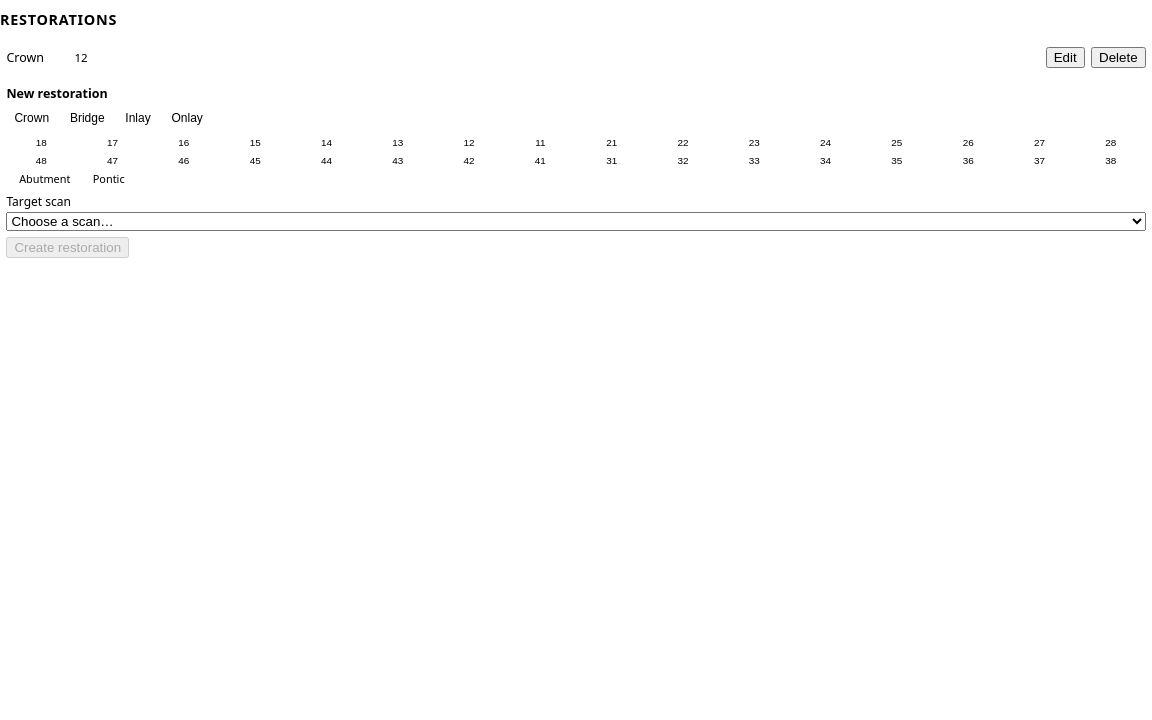
Test: RestorationWizard — delete confirm gate (Task-11-review Critical 2) › gates deletion of a restoration with a hand-traced margin line behind a confirm dialog; cancel keeps it, confirm deletes it and journals the margin/axis snapsho
The width and height of the screenshot is (1152, 720).
expect the text "12" is shown: met, box [74,50,88,65]
Click the button with test id "restoration-delete-button" at coordinates (1118, 58), box [1091,47,1146,68]
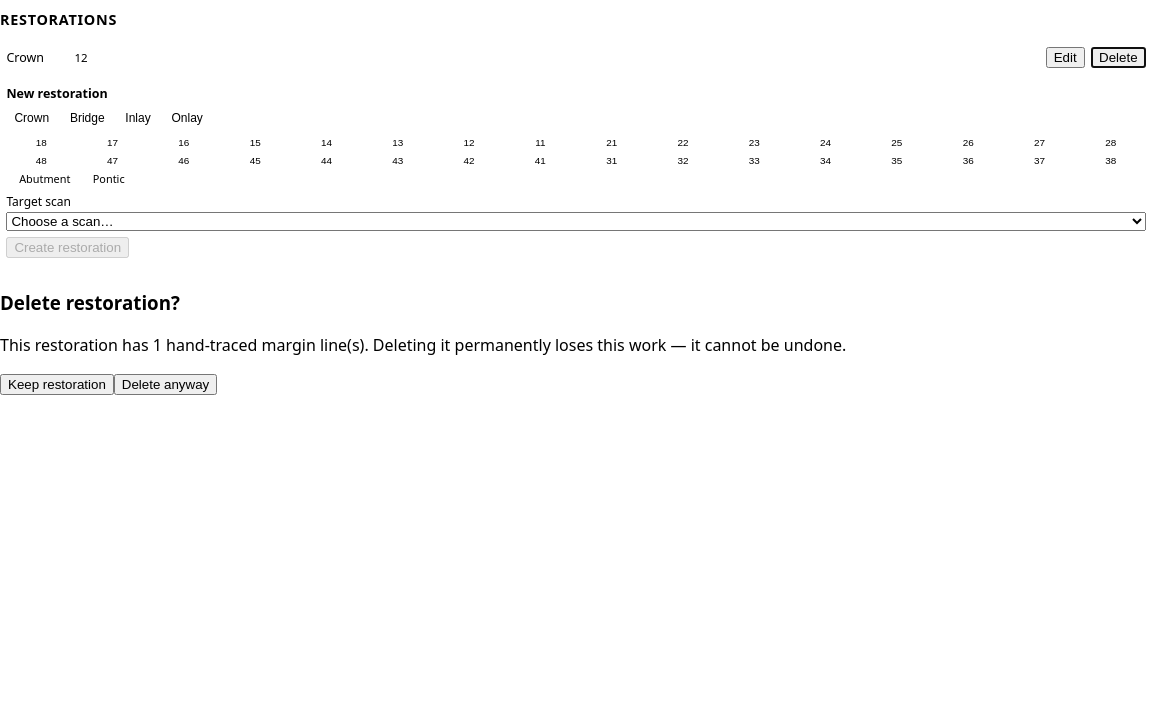
Note: Cancel: restoration survives.
Click the button with test id "restoration-delete-confirm-cancel" at coordinates (57, 384), box [0,374,114,395]
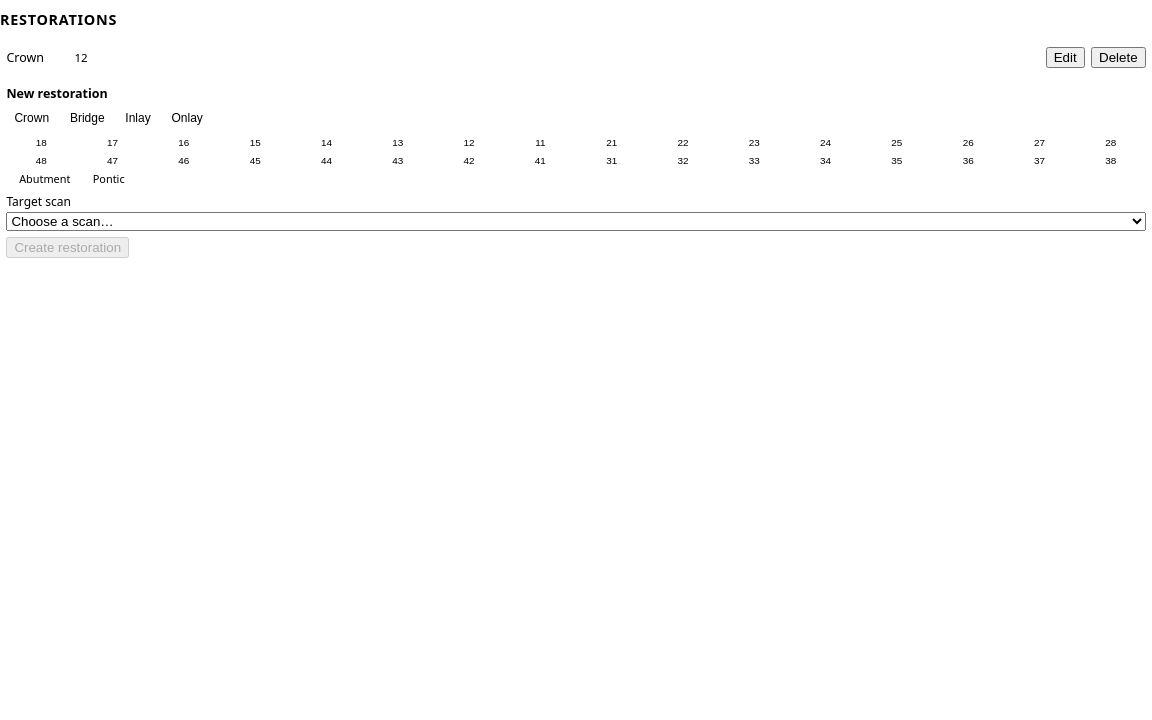
expect the text with test id "restoration-delete-confirm-message" is gone: met
Click the button with test id "restoration-delete-button" at coordinates (1118, 58), box [1091,47,1146,68]
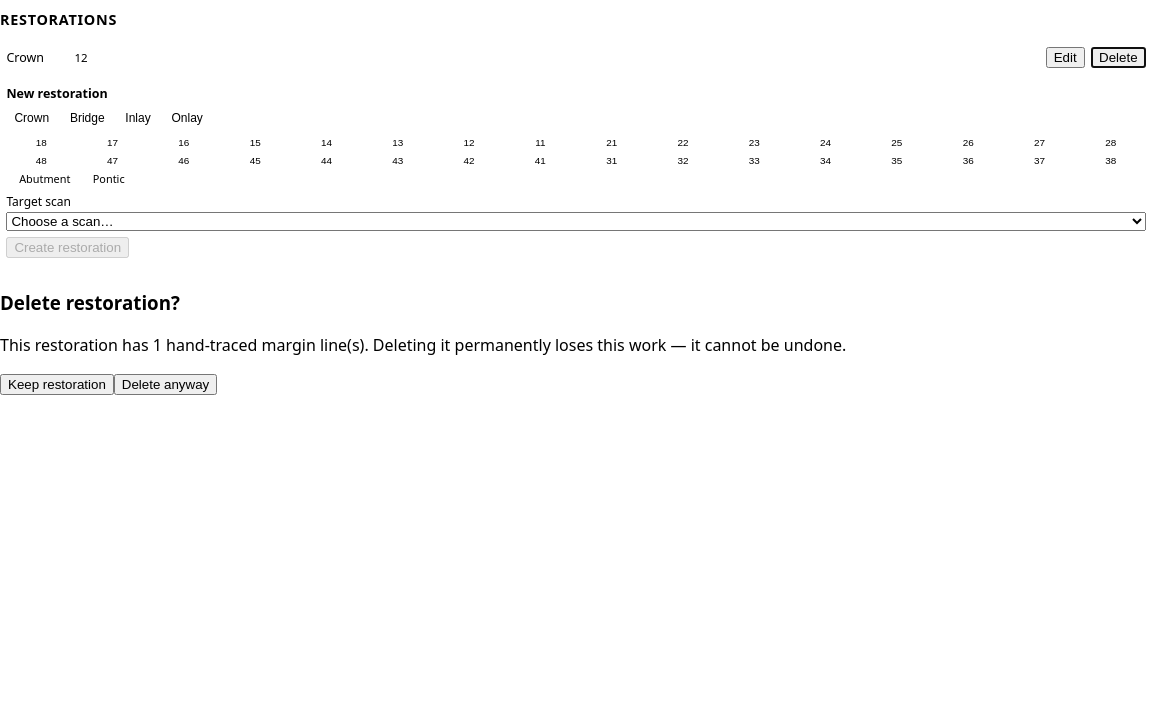
expect the text with test id "restoration-delete-confirm-message" is shown: met, box [0,334,846,356]
Click the button with test id "restoration-delete-confirm-confirm" at coordinates (166, 384), box [114,374,217,395]
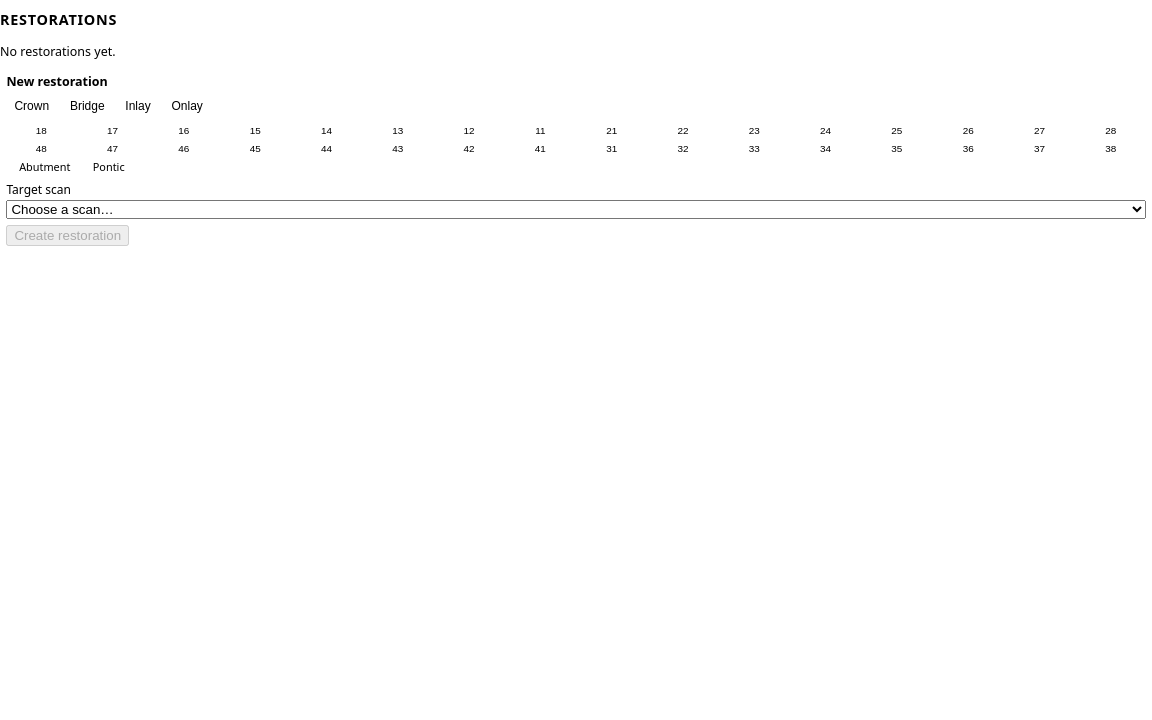
expect the text with test id "restoration-delete-confirm-message" is gone: met
